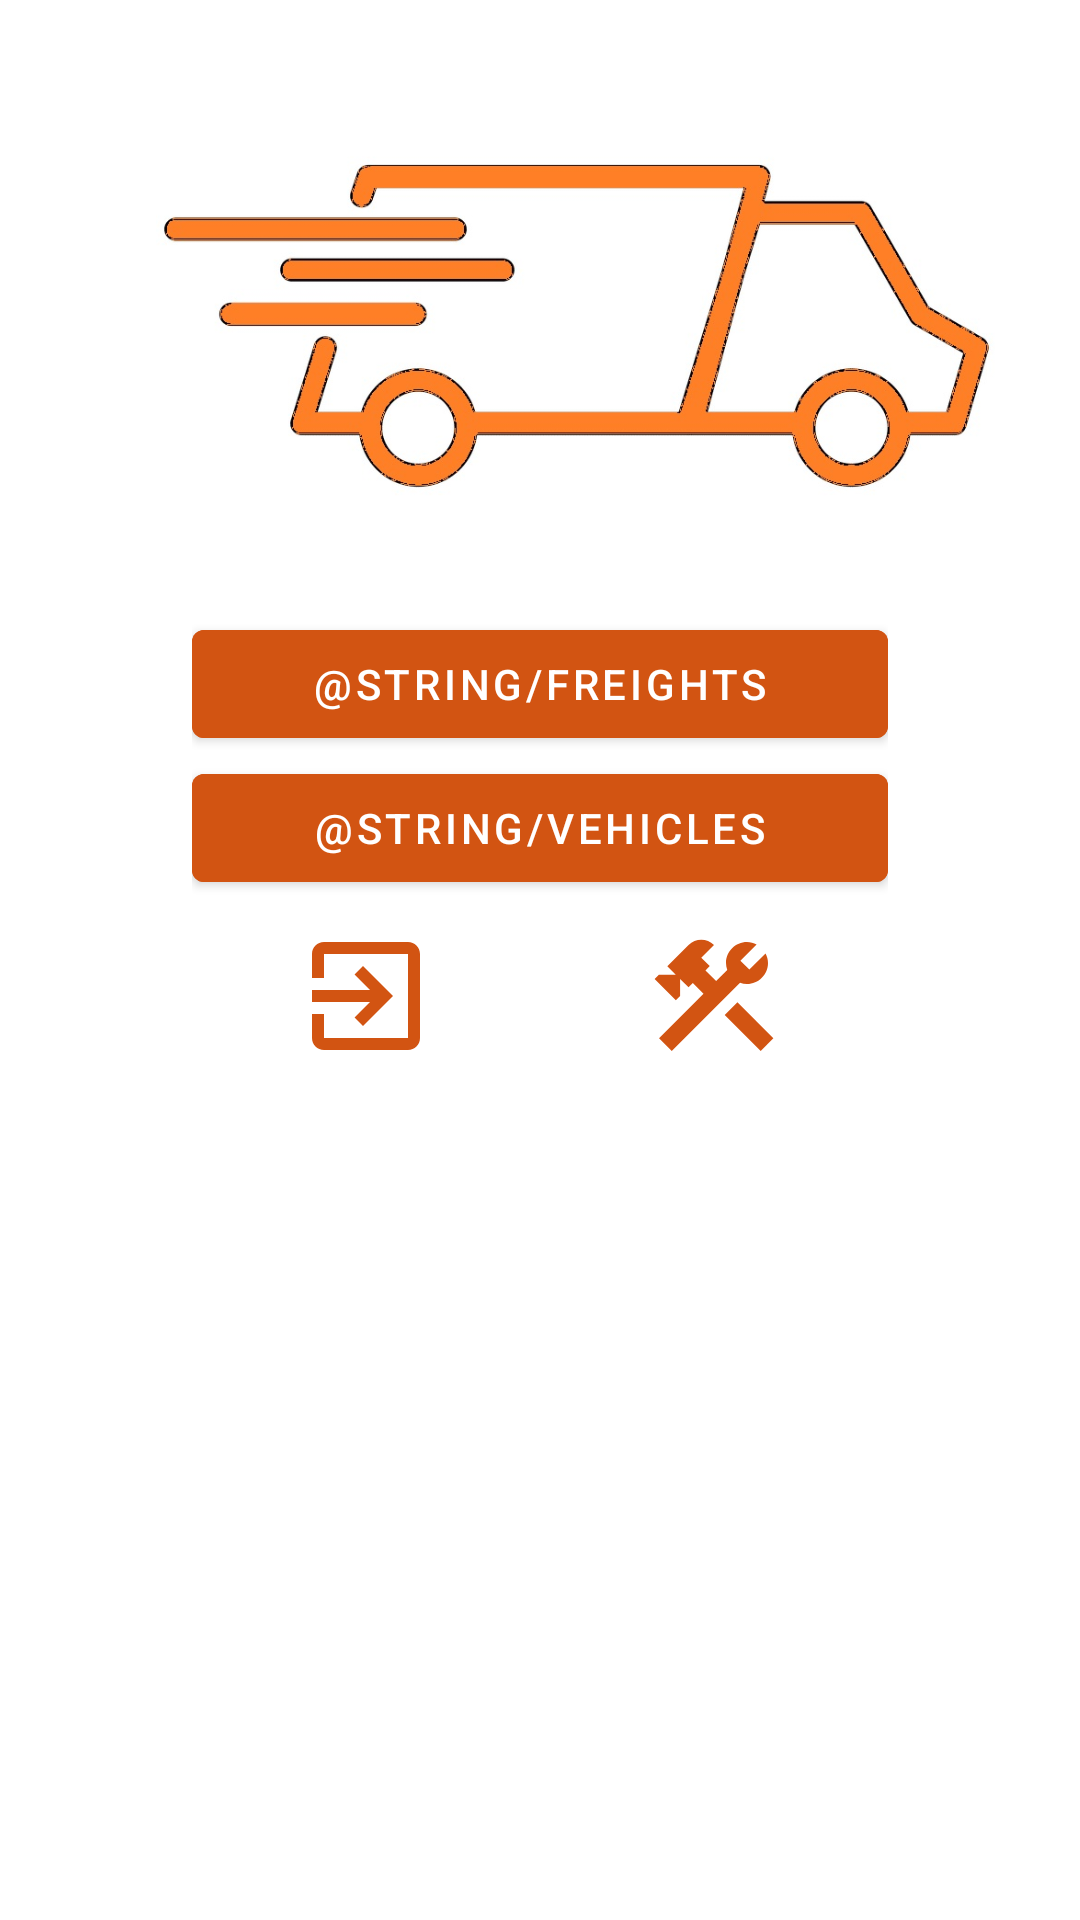

Locate icon controls on the screen. Image size 1080 x 1920, boxes as (x1, y1, x2, y2).
construction: (655, 939, 774, 1051)
exit to app: (312, 942, 420, 1050)
